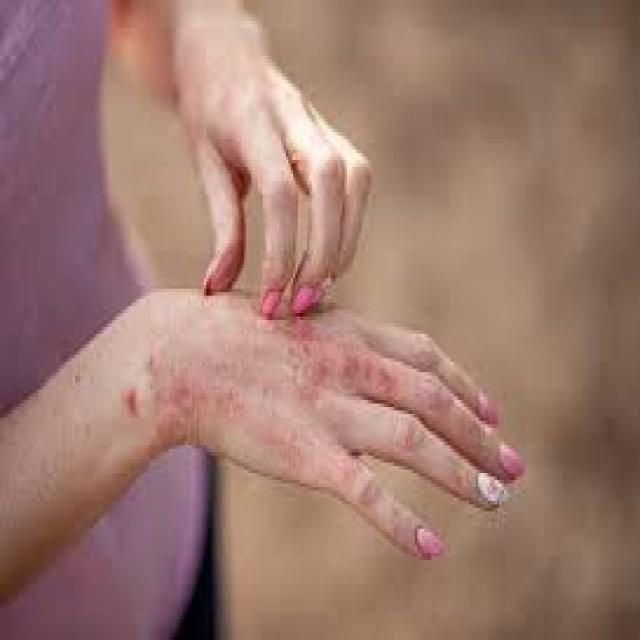Eczema: (87, 316, 404, 484)
